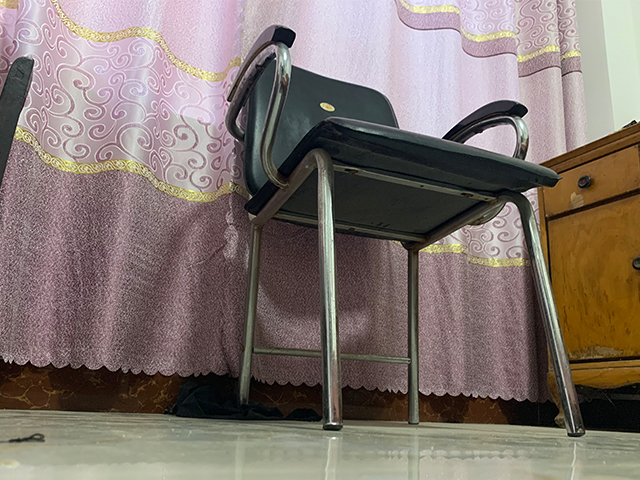cabinet: (536, 121, 640, 431)
curtain: (1, 1, 589, 406)
stool: (223, 22, 586, 438)
